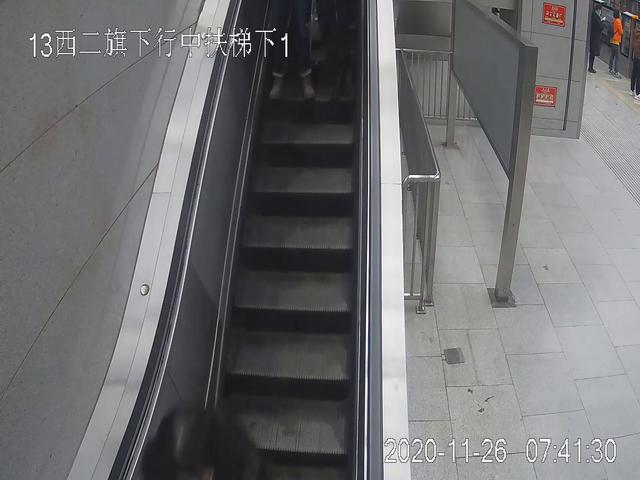person: (607, 12, 627, 75), (586, 5, 601, 72)
